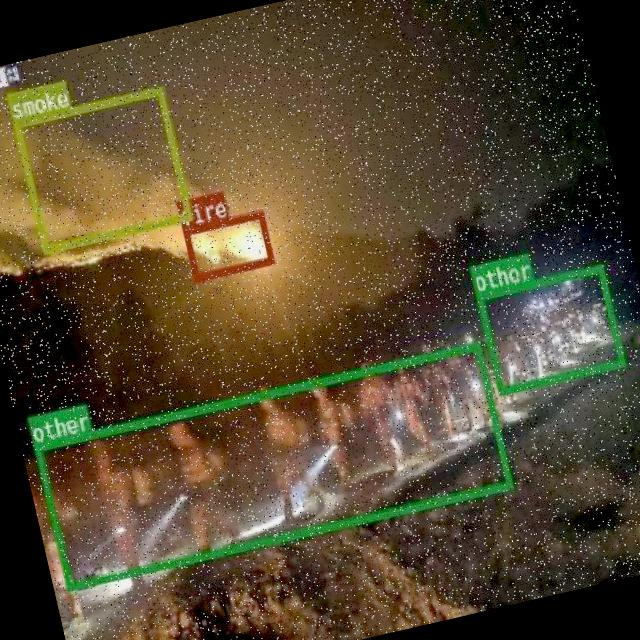smoke: (12, 85, 192, 252)
